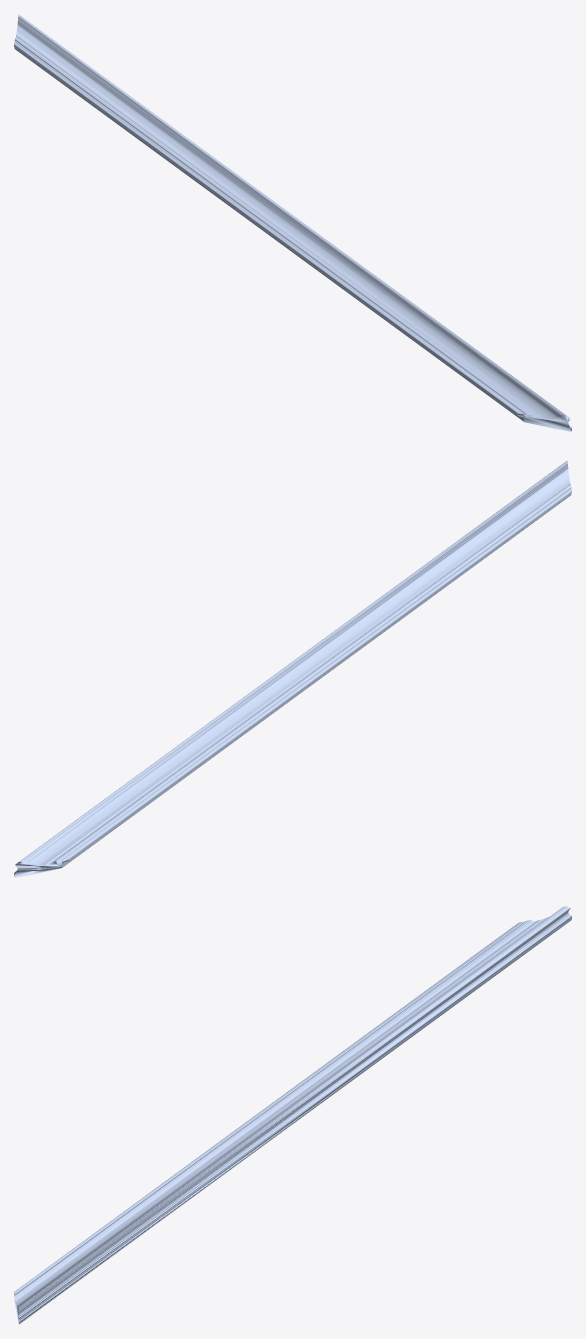
The picture shows the model from 3 angles, top to bottom: view 1: azimuth 30°, elevation 25°; view 2: azimuth 150°, elevation 25°; view 3: azimuth 330°, elevation 25°; orthographic projection.
Parts seen in each view (by area): view 1: final.002; view 2: final.002; view 3: final.002.
Boxes of the visible parts, box(x1,y1,x2,y2) form: final.002: box(14, 14, 571, 431); final.002: box(14, 460, 571, 877); final.002: box(14, 906, 571, 1324).
Bounding box in the file's own units: 3.13 × 1.56 × 100.
